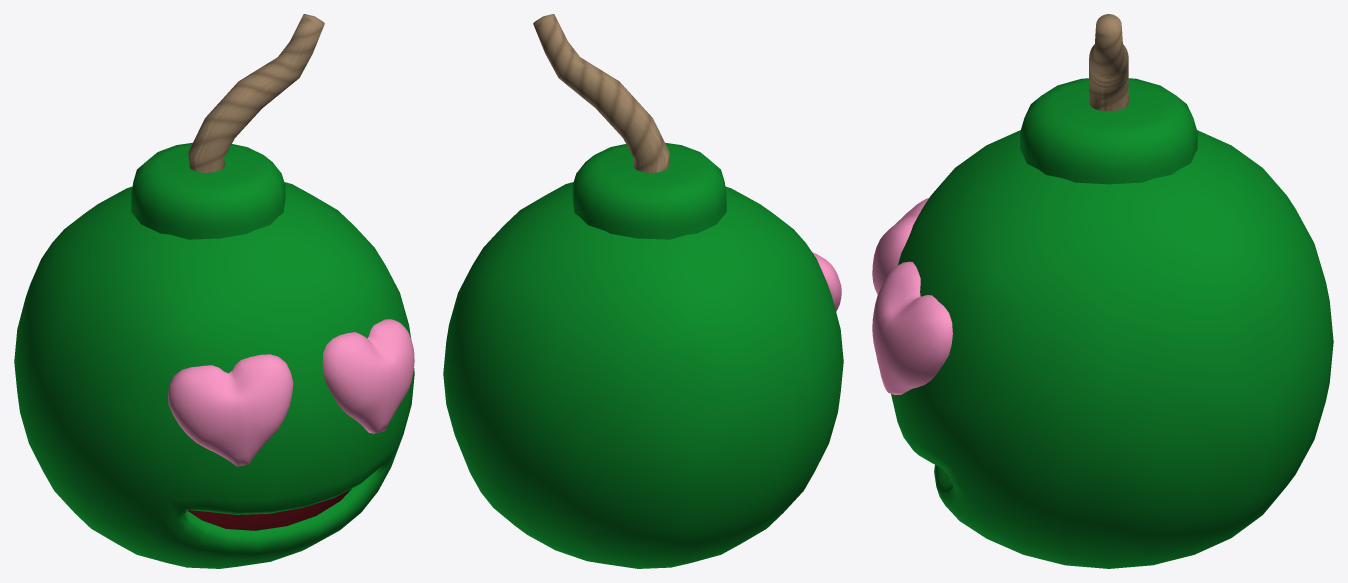
The model's file is Bomb 09.fbx.
3 views of the same model, side by side, from view 1: azimuth 30°, elevation 25°; view 2: azimuth 150°, elevation 25°; view 3: azimuth 270°, elevation 25° (orthographic). The views are drawn at different scales.
Parts seen in each view (by area): view 1: Love, Cylinder_4, Sphere_4; view 2: Love, Cylinder_4, Sphere_4; view 3: Love, Cylinder_4, Sphere_4.
Part boxes in pixels (x1,y1,x2,y2): Love: (14, 182, 414, 568); Cylinder_4: (131, 142, 285, 239); Sphere_4: (188, 14, 324, 172); Love: (443, 182, 843, 568); Cylinder_4: (572, 142, 726, 239); Sphere_4: (533, 14, 669, 172); Love: (872, 130, 1333, 568); Cylinder_4: (1020, 78, 1197, 184); Sphere_4: (1088, 14, 1128, 111).
Size of the model in its own units: 160 by 229 by 165.
